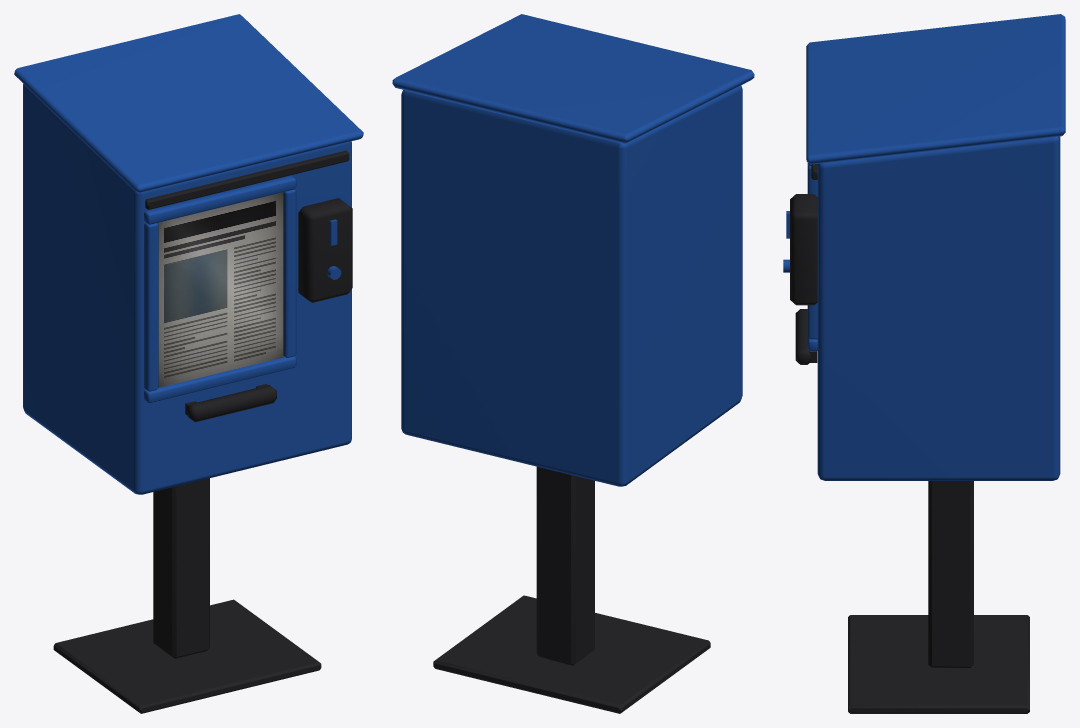
Rendered from news_box.glb.
The picture shows the model from 3 angles, left to right: view 1: azimuth 30°, elevation 25°; view 2: azimuth 150°, elevation 25°; view 3: azimuth 270°, elevation 25°; orthographic projection. The views are drawn at different scales.
Visible parts, largest first — view 1: news_box; view 2: news_box; view 3: news_box.
Part boxes in pixels (x1,y1,x2,y2): news_box: (14,14,363,713); news_box: (392,14,754,713); news_box: (783,14,1065,713).
Size of the model in its own units: 0.45 by 1.09 by 0.4652.
Materials: 3 (1 with a texture image).
